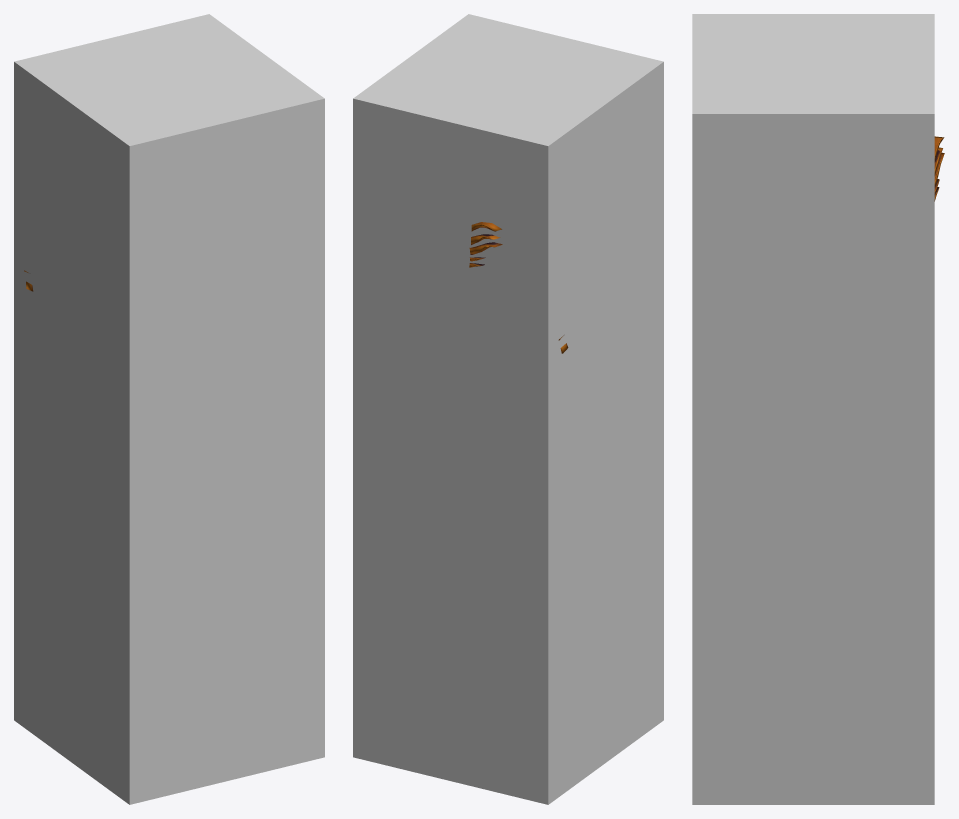
The model's file is dragon_pillar.FBX.
The picture shows the model from 3 angles, left to right: view 1: azimuth 30°, elevation 25°; view 2: azimuth 150°, elevation 25°; view 3: azimuth 270°, elevation 25°; orthographic projection. The views are drawn at different scales.
Visible parts, largest first — view 1: bounds; view 2: bounds, dragonPillar200; view 3: bounds.
Boxes of the visible parts, <box> form: bounds: <box>14,14,324,804</box>; bounds: <box>353,14,663,804</box>; dragonPillar200: <box>469,222,568,353</box>; bounds: <box>692,14,934,804</box>.
Bounding box in the file's own units: 184 × 591 × 196.
